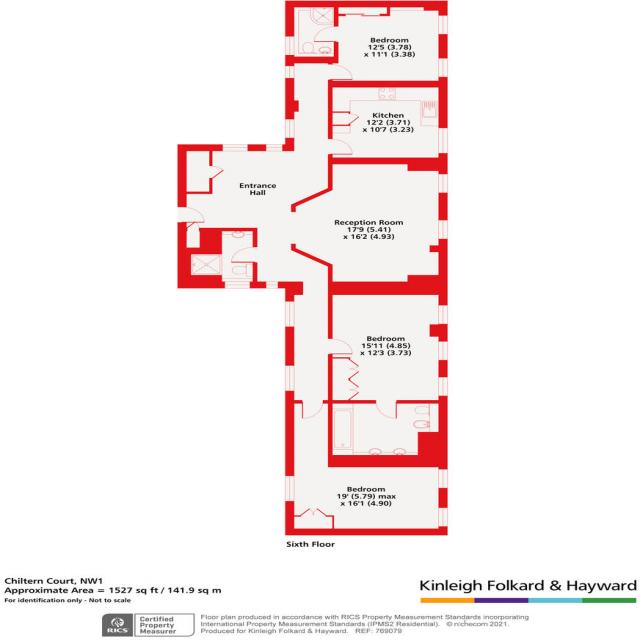DOOR: (229, 245, 259, 264), (176, 205, 207, 223), (373, 399, 399, 420), (300, 399, 325, 420), (326, 138, 355, 156), (326, 63, 354, 81), (326, 337, 354, 355), (312, 26, 339, 43)
ROOM: (285, 399, 448, 536), (290, 157, 449, 297), (327, 274, 448, 419), (310, 0, 450, 89), (326, 79, 449, 172)
WINDOW: (283, 300, 296, 328), (283, 364, 296, 392), (283, 475, 296, 502), (437, 127, 449, 155), (223, 280, 251, 290), (437, 507, 450, 528), (283, 35, 295, 57), (436, 15, 449, 35), (437, 57, 449, 78), (437, 173, 449, 194), (437, 219, 449, 240), (437, 304, 449, 325), (437, 376, 449, 397), (437, 468, 449, 489), (221, 143, 249, 152), (284, 119, 296, 139), (437, 341, 449, 361), (265, 143, 284, 152), (284, 65, 295, 79), (264, 280, 280, 289)
